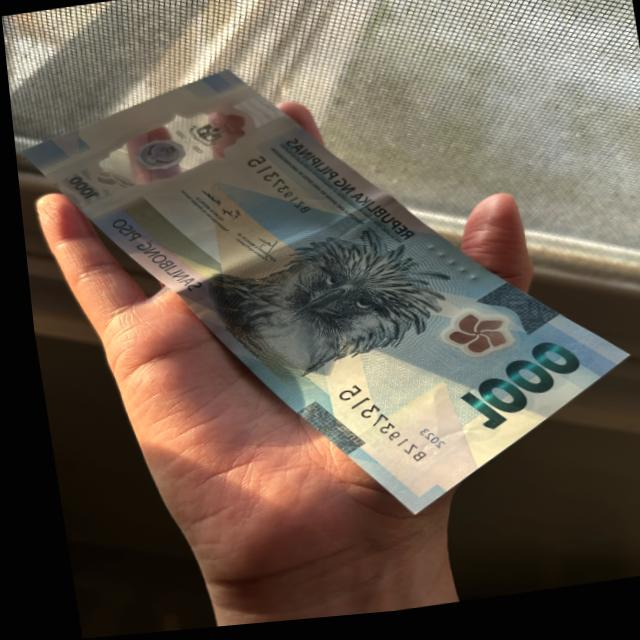clear_window: (60, 97, 270, 203)
eagle: (198, 230, 448, 385)
sampaguita: (433, 316, 503, 365)
